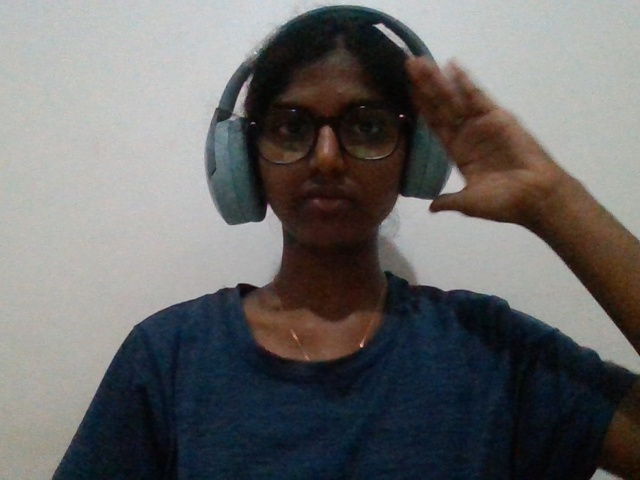Hello: (374, 40, 616, 267)
